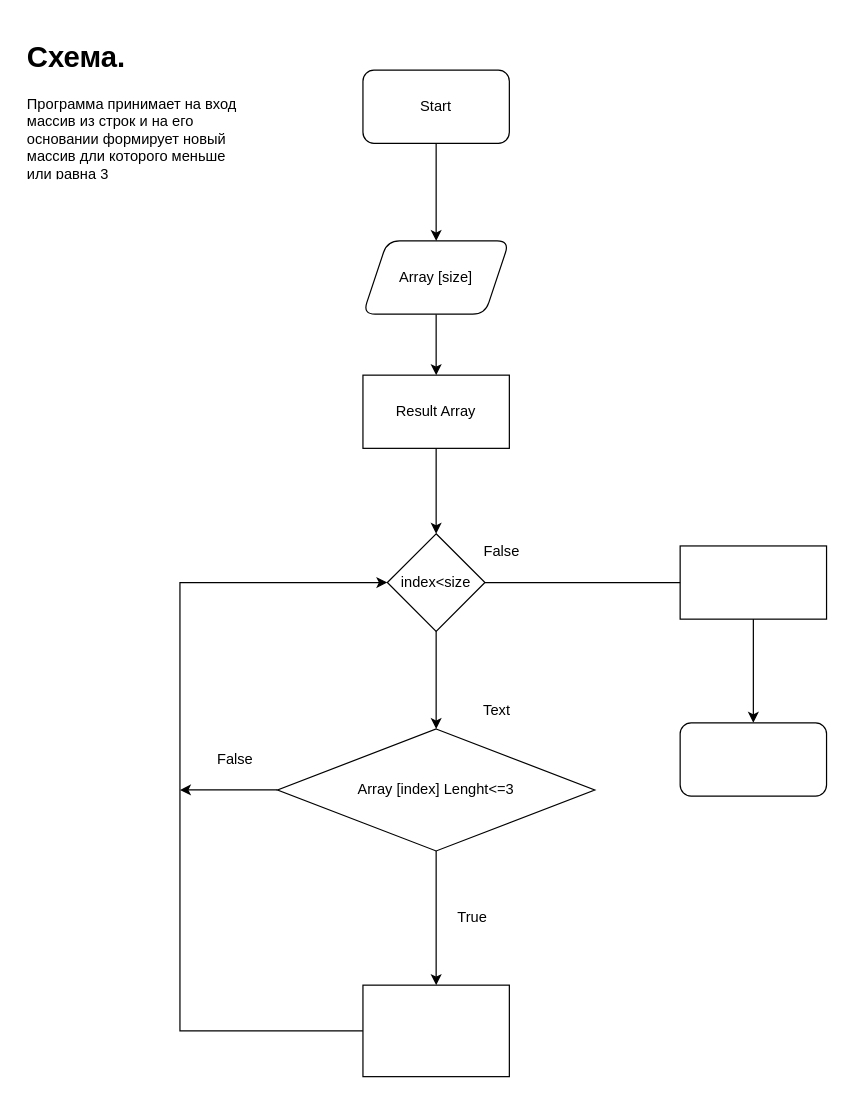
This 848x1098 diagram has some shape labels left out. Each missing label, with the centre of its shape:
"Finish" belongs at pixel 753 759.
"result Array. Contact(array)[Index]" belongs at pixel 435 1030.
"Write (Array) Write (Result Array)" belongs at pixel 753 582.
